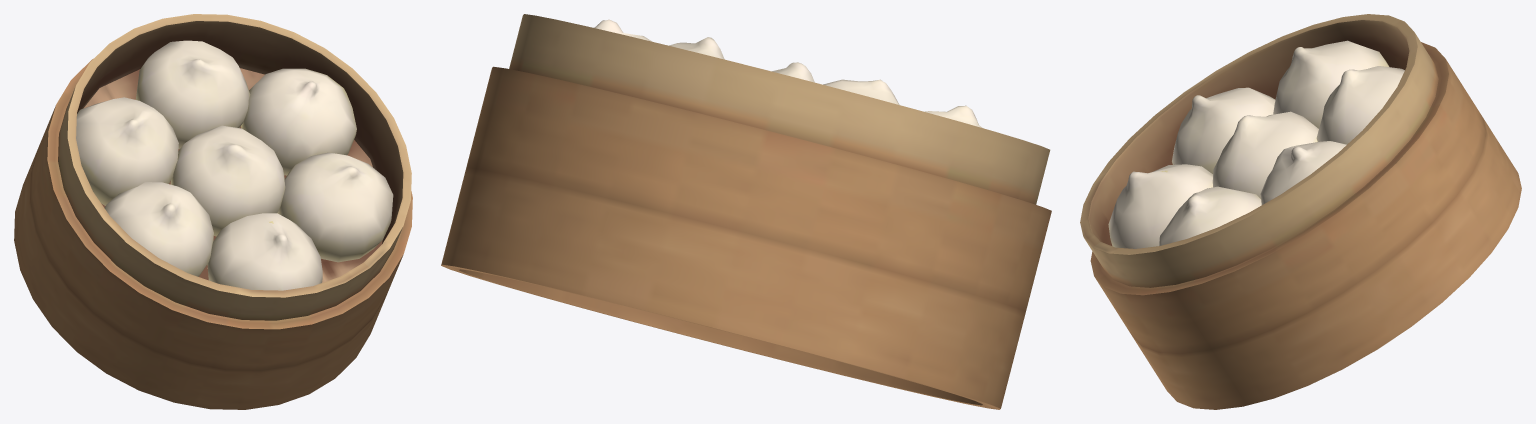
Rendered from BFXiaoLongBao.glb.
3 views of the same model, side by side, from view 1: azimuth 30°, elevation 25°; view 2: azimuth 150°, elevation 25°; view 3: azimuth 270°, elevation 25° (orthographic). The views are drawn at different scales.
Visible parts, largest first — view 1: xiaoLongBao; view 2: xiaoLongBao; view 3: xiaoLongBao.
Part boxes in pixels (<box>): xiaoLongBao: <box>14,14,412,409</box>; xiaoLongBao: <box>441,14,1051,409</box>; xiaoLongBao: <box>1080,14,1521,409</box>.
Size of the model in its own units: 2.11 by 1.86 by 2.26.
Materials: 2 (2 with a texture image).
